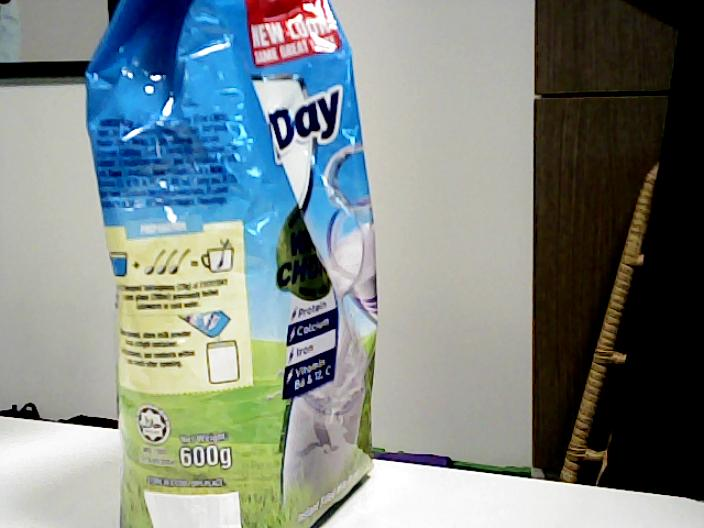Adult_Milk_600-699g_Halal_NonHealthy: (82, 1, 376, 528)
